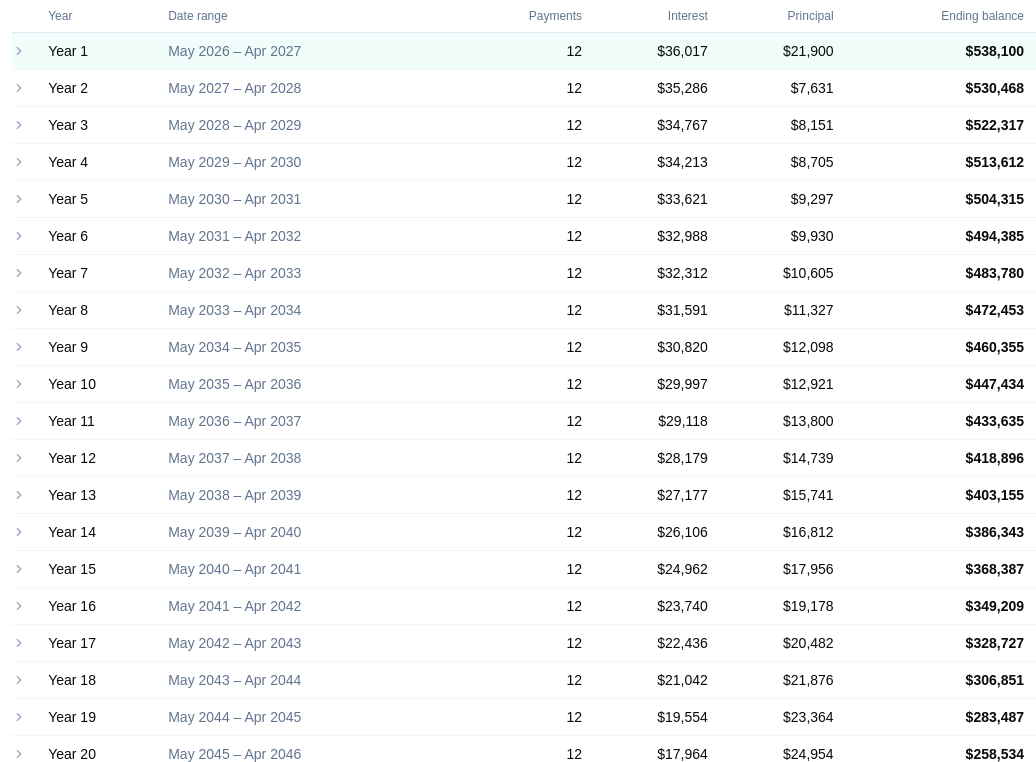
Test: LedgerTab › renders an event-color dot on the month a lump-sum event landed in, once expanded
Click the text "Year 1" at (64, 51), box x1=48 y1=32 x2=168 y2=70
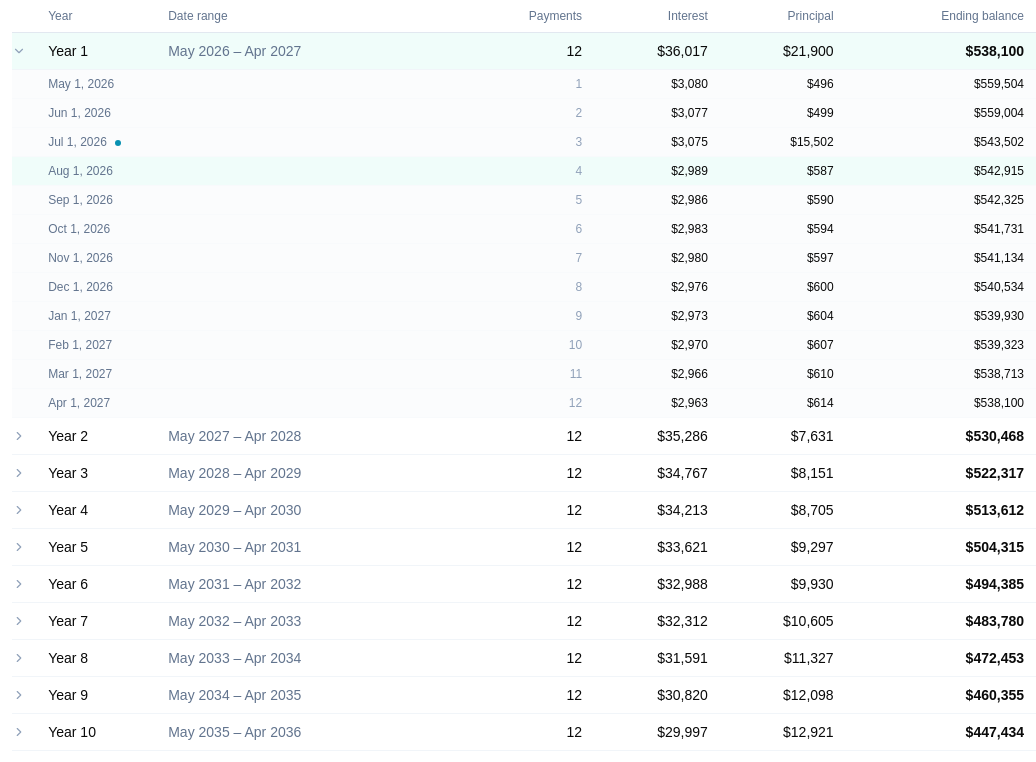
Result: the element titled "Lump sum" is shown at x1=115 y1=140 x2=121 y2=146
